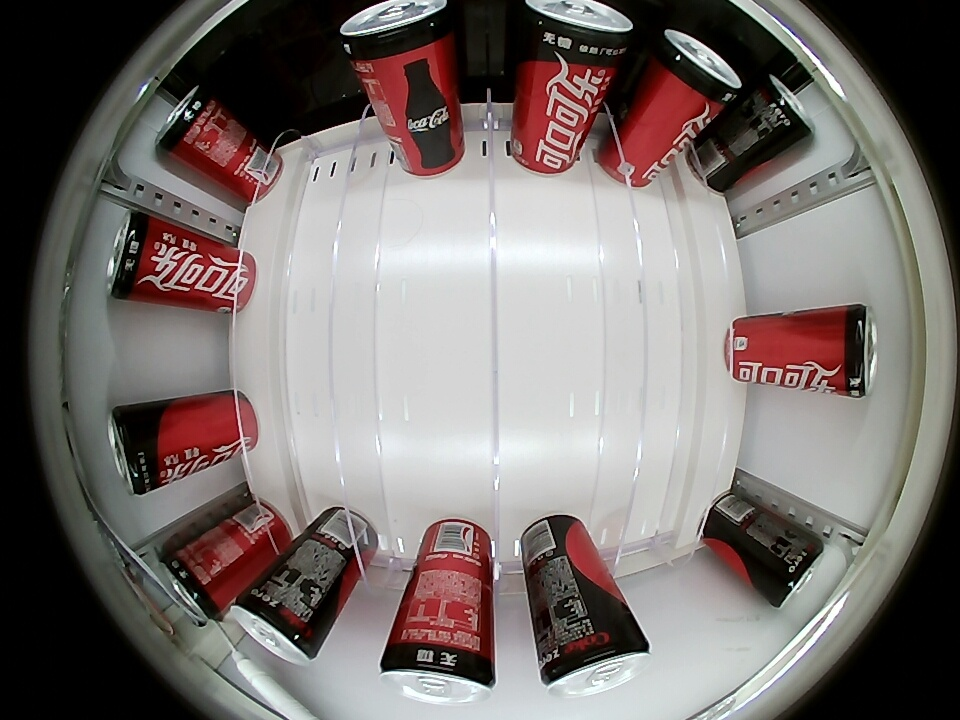lingdukele: (516, 0, 635, 73), (541, 620, 652, 698), (382, 631, 495, 705), (341, 0, 457, 72), (231, 582, 324, 666), (646, 28, 742, 109), (161, 537, 232, 626), (107, 207, 171, 300), (156, 86, 228, 168), (110, 403, 172, 495), (817, 304, 877, 398), (747, 72, 813, 148), (764, 531, 825, 608)
